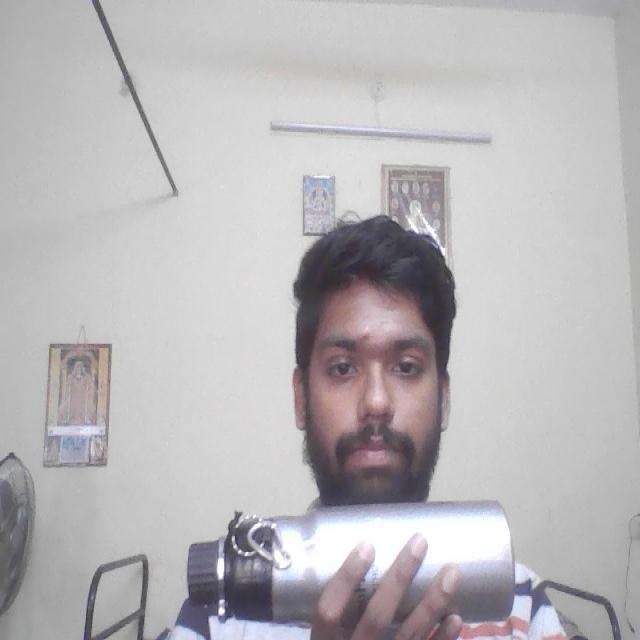Drinking: (178, 494, 525, 630)
